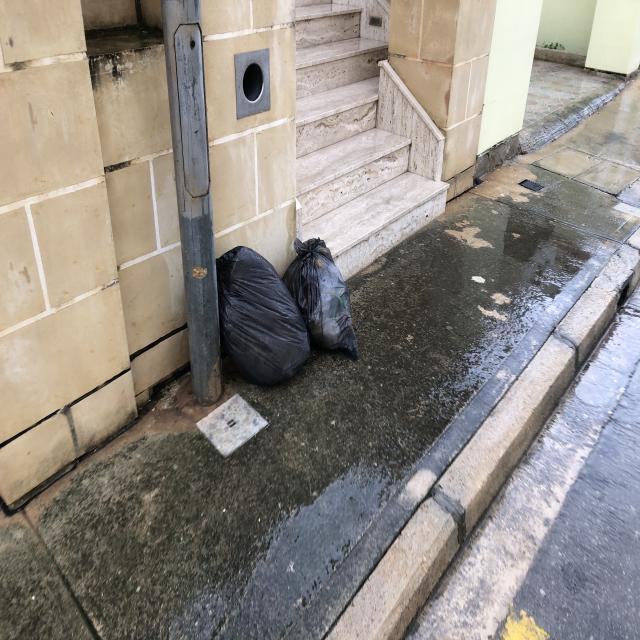Mixed Waste -Black Bag-: (216, 246, 313, 391), (283, 237, 356, 363)
